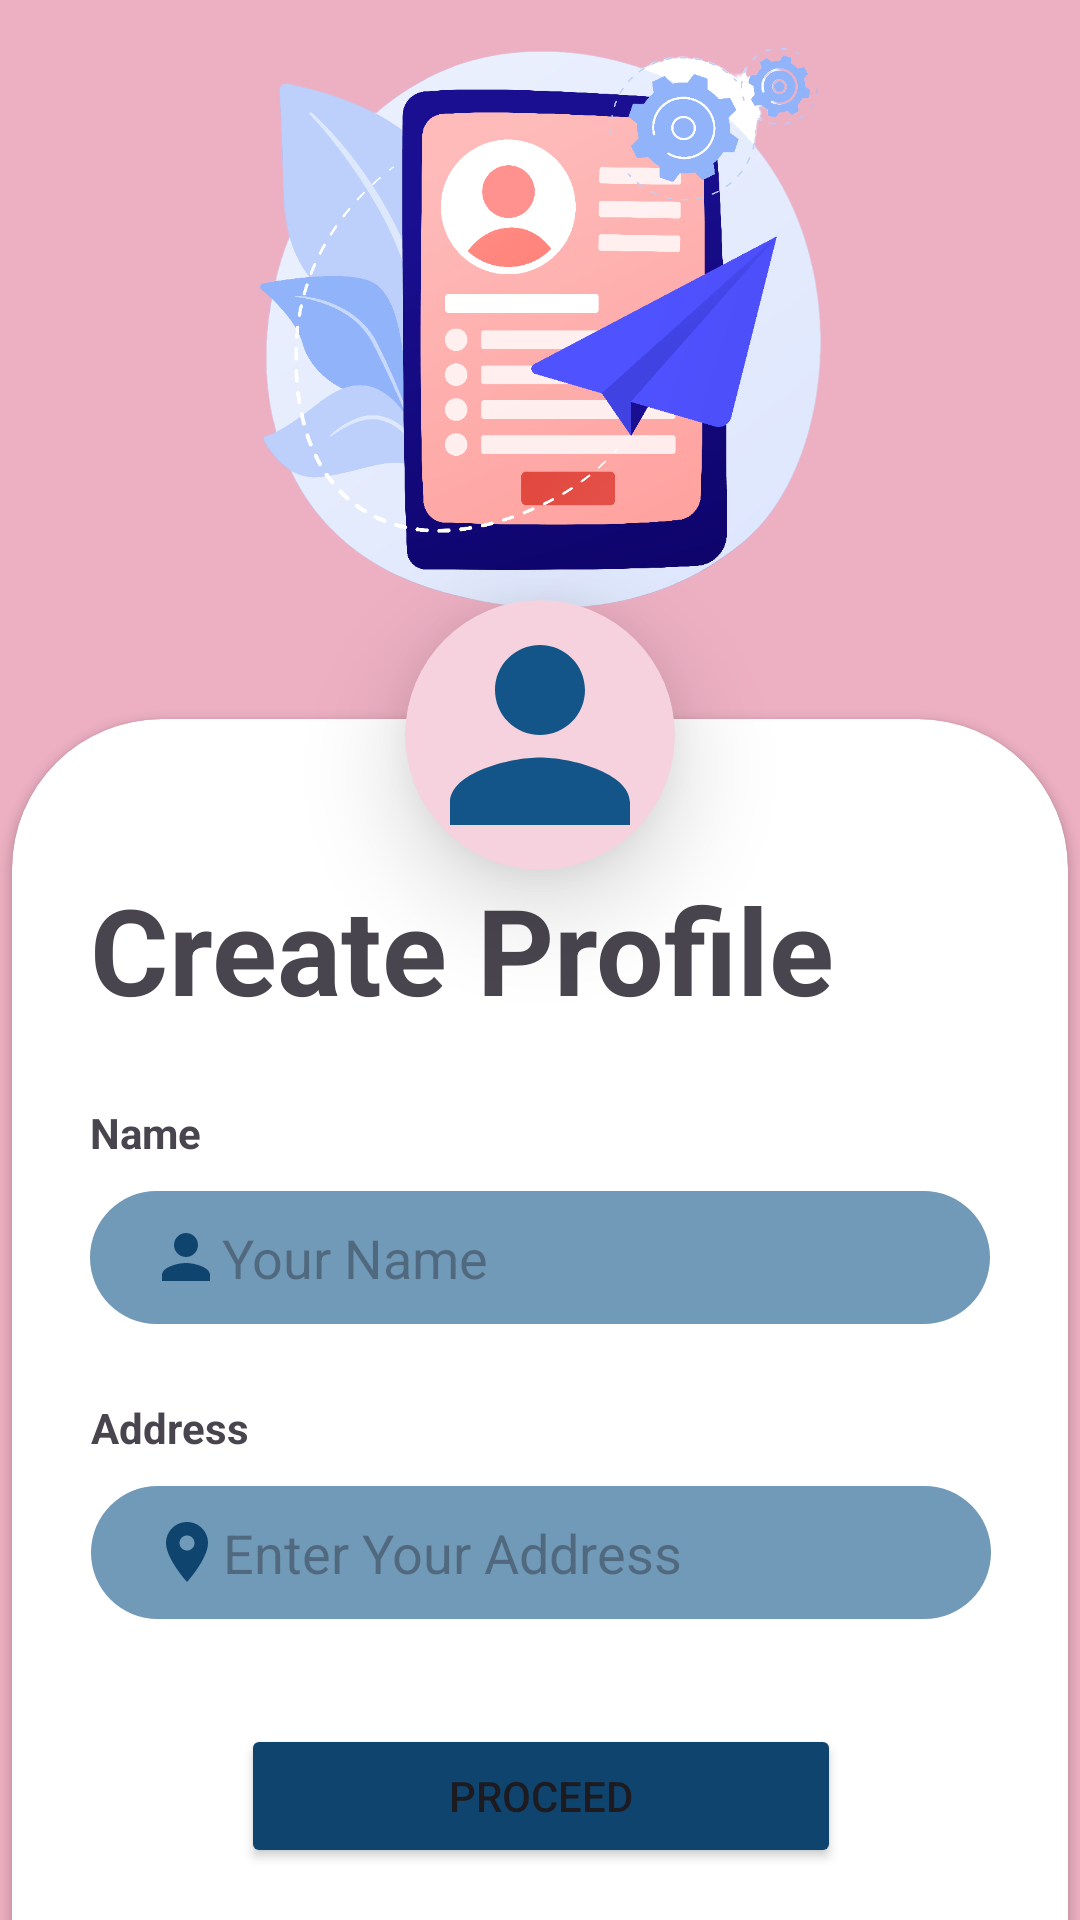

Where icons sit on this 1080×1920 app screen, as box(x1, y1, x2, y2):
person: box(405, 600, 675, 870)
